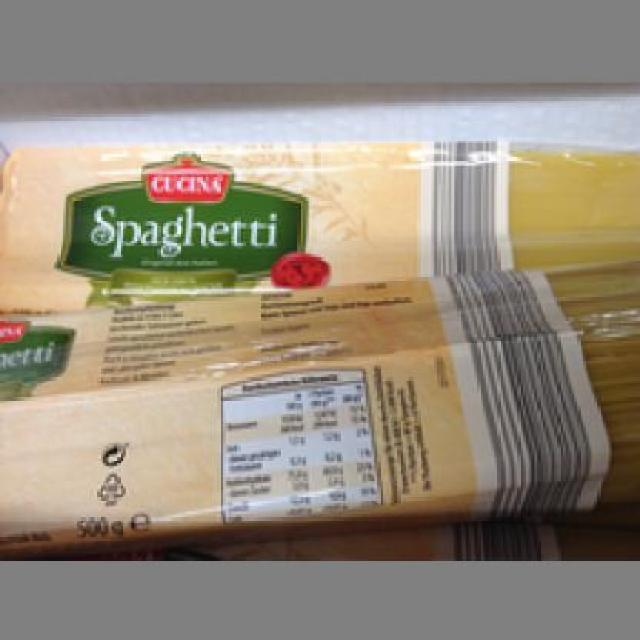Pasta: (0, 262, 637, 548), (0, 143, 635, 304)
